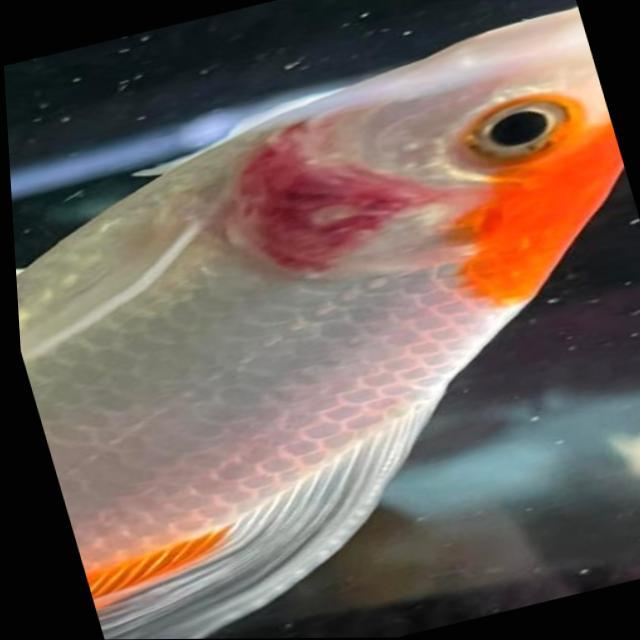Gill Disease: (150, 31, 595, 395)
